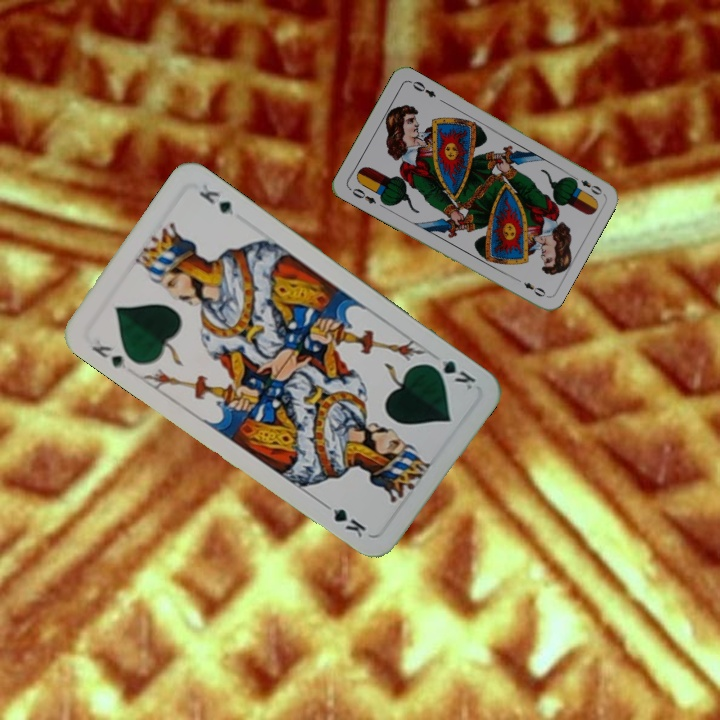EO: (568, 171, 605, 198), (345, 184, 379, 206)
GK: (423, 353, 479, 393), (87, 341, 131, 372)
